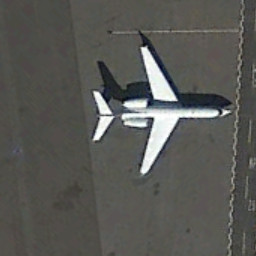Airplane: (82, 33, 243, 182)
